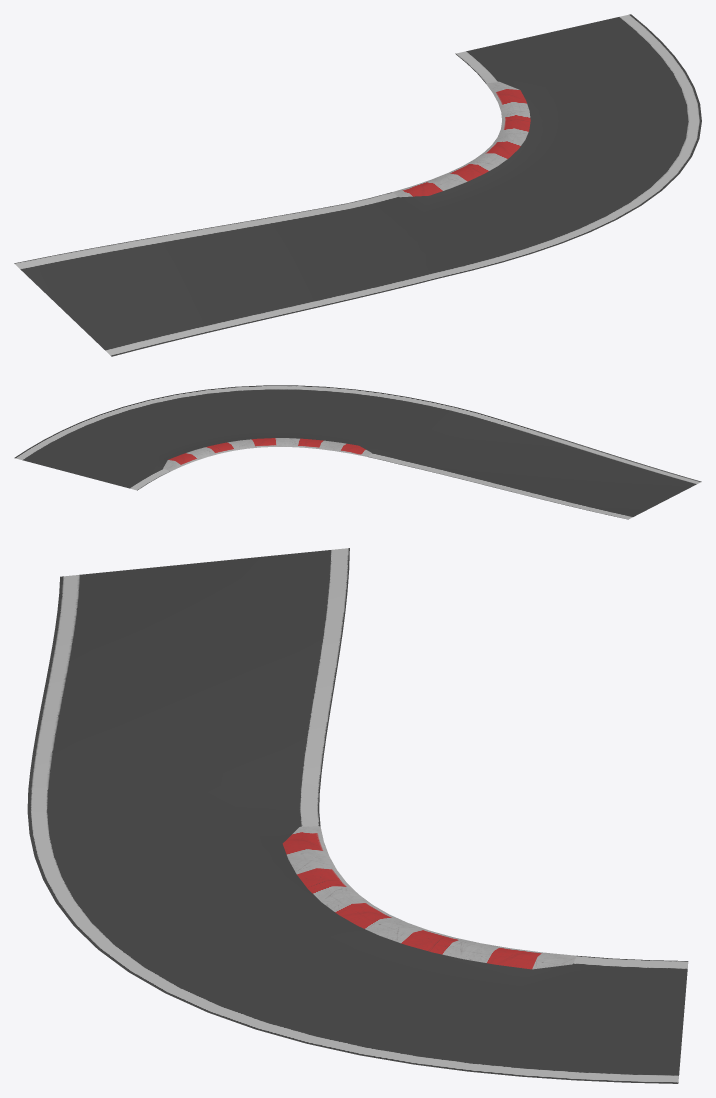
File: sm_road.012.fbx
3 views of the same model, one above another, from view 1: azimuth 30°, elevation 25°; view 2: azimuth 150°, elevation 25°; view 3: azimuth 270°, elevation 25° (orthographic). The views are drawn at different scales.
Parts seen in each view (by area): view 1: sm_road.016; view 2: sm_road.016; view 3: sm_road.016.
Part boxes in pixels (x1,y1,x2,y2): sm_road.016: (14,14,701,356); sm_road.016: (14,385,701,519); sm_road.016: (27,548,688,1083).
Bounding box in the file's own units: 62.03 × 1.65 × 33.27.
